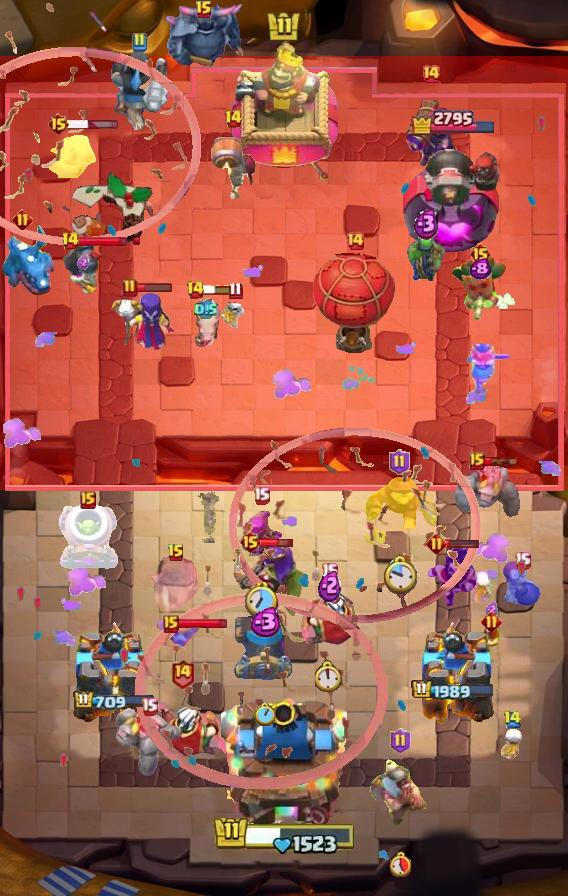archer-evolution: (237, 509, 285, 571)
bandit: (47, 126, 101, 178)
bar: (177, 617, 228, 630), (77, 235, 128, 248), (67, 119, 119, 130), (259, 536, 294, 549), (202, 284, 238, 296), (136, 282, 173, 293), (445, 538, 480, 549), (483, 456, 518, 467)
bar-level: (170, 658, 195, 689), (239, 530, 262, 554), (469, 242, 492, 266), (47, 112, 70, 136), (390, 728, 411, 754), (389, 449, 410, 475), (481, 611, 502, 632), (426, 533, 447, 554), (12, 209, 33, 230), (345, 231, 365, 251), (421, 64, 441, 84), (186, 280, 205, 300), (61, 231, 80, 251), (224, 109, 243, 129), (503, 710, 522, 729), (167, 543, 185, 563), (195, 0, 213, 20), (141, 697, 158, 716), (321, 562, 338, 581), (514, 551, 531, 570), (253, 486, 270, 505), (122, 278, 138, 298), (131, 32, 147, 52), (163, 615, 179, 633), (80, 491, 96, 509), (469, 452, 485, 470), (228, 281, 243, 300)
bat-evolution: (157, 620, 205, 648)
bomber: (501, 561, 543, 611)
cannoneer-tower: (401, 138, 505, 256)
clock: (382, 554, 417, 596), (245, 582, 278, 618), (315, 660, 343, 692), (389, 851, 411, 877), (254, 703, 275, 726)
dart-goblin: (450, 255, 510, 323)
dirt: (197, 491, 223, 543)
electro-dragon: (0, 223, 56, 299)
electro-wizard: (421, 547, 479, 611)
elixir: (246, 607, 282, 637), (413, 207, 440, 240), (318, 569, 341, 602), (194, 299, 218, 320), (469, 258, 491, 280), (485, 601, 498, 618), (77, 255, 89, 270)
fire-spirit: (480, 622, 502, 648)
firecracker-evolution: (404, 82, 458, 170)
golemite: (113, 706, 185, 778), (454, 464, 520, 524)
guard: (59, 242, 107, 298)
hog: (189, 294, 223, 350)
king-tower: (221, 690, 347, 826), (230, 43, 338, 181)
king-tower-bar: (212, 812, 356, 854)
miner: (368, 754, 432, 828)
mortar: (234, 616, 294, 680)
mortar-evolution: (56, 502, 120, 572)
queen-tower: (411, 619, 495, 731), (72, 619, 156, 731)
royal-ghost: (148, 551, 204, 617)
skeleton: (498, 728, 526, 762), (466, 570, 494, 602), (221, 296, 249, 328)
spear-goblin: (406, 227, 446, 285)
tower-bar: (410, 108, 497, 135), (411, 679, 495, 702), (73, 690, 156, 712)
valkyrie: (465, 342, 513, 396)
wall-breaker: (208, 134, 258, 202)
witch: (108, 291, 176, 353)
